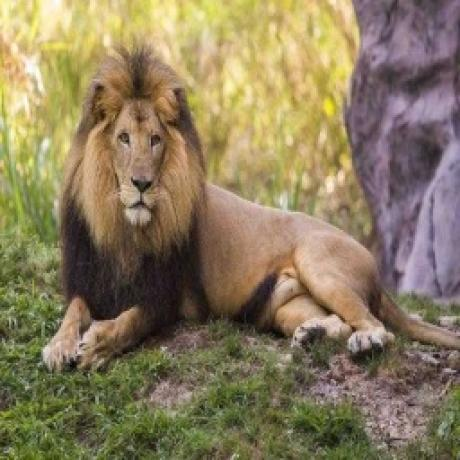Lion: (39, 42, 460, 374)
